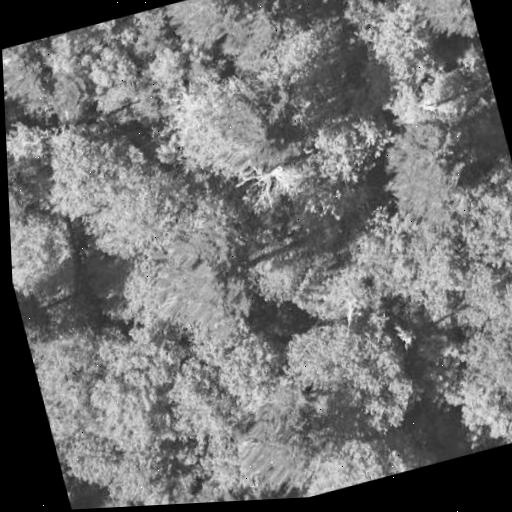tree-top: (275, 304, 425, 453), (139, 67, 282, 190), (71, 159, 203, 277), (356, 109, 482, 231), (144, 218, 268, 339), (370, 215, 480, 344), (229, 0, 351, 110), (28, 109, 142, 221), (287, 415, 435, 498), (26, 320, 117, 453), (189, 310, 290, 429), (227, 392, 335, 495), (279, 241, 389, 341), (89, 312, 183, 417), (296, 93, 396, 188), (232, 209, 321, 311), (152, 365, 242, 464), (343, 0, 441, 81), (9, 208, 89, 306), (73, 36, 153, 131), (92, 368, 166, 454), (454, 161, 512, 270), (455, 253, 512, 355), (159, 0, 243, 63), (98, 439, 174, 506), (448, 326, 512, 403), (28, 25, 102, 91), (447, 373, 512, 446), (399, 0, 479, 51), (483, 339, 512, 445), (158, 479, 261, 505), (5, 115, 51, 166), (292, 0, 374, 9)
